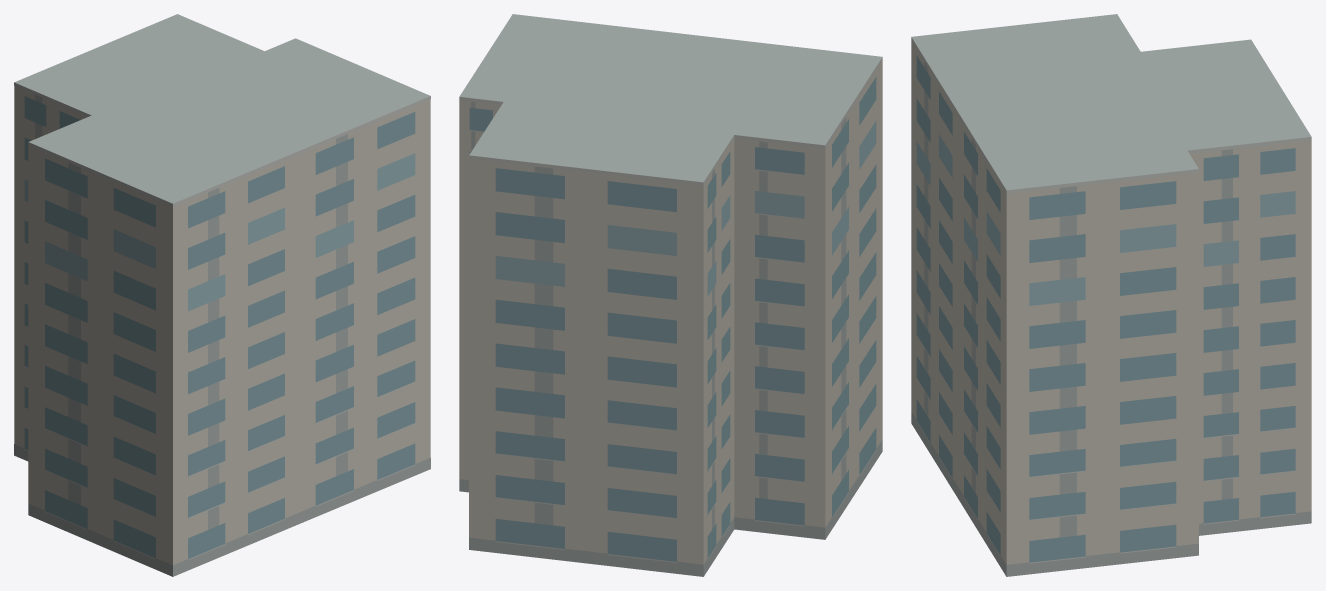
File: residential-86e13b19-0c75-4e9e-908e-903d19eeed3e.glb
The picture shows the model from 3 angles, left to right: view 1: azimuth 30°, elevation 25°; view 2: azimuth 150°, elevation 25°; view 3: azimuth 270°, elevation 25°; orthographic projection. The views are drawn at different scales.
Parts seen in each view (by area): view 1: residential-86e13b19-0c75-4e9e-908e-903d19eeed3e.tmp; view 2: residential-86e13b19-0c75-4e9e-908e-903d19eeed3e.tmp; view 3: residential-86e13b19-0c75-4e9e-908e-903d19eeed3e.tmp.
Boxes of the visible parts, <box> form: residential-86e13b19-0c75-4e9e-908e-903d19eeed3e.tmp: <box>14,14,430,576</box>; residential-86e13b19-0c75-4e9e-908e-903d19eeed3e.tmp: <box>459,14,882,576</box>; residential-86e13b19-0c75-4e9e-908e-903d19eeed3e.tmp: <box>911,14,1311,576</box>.
Size of the model in its own units: 26.44 by 27 by 25.36.
